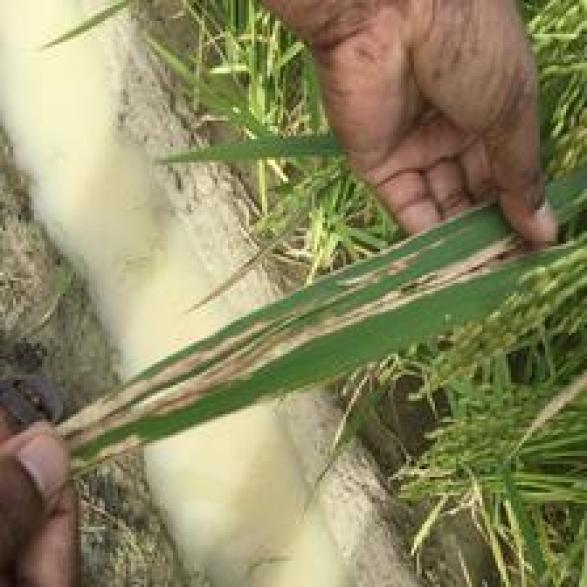Bacteria_Leaf_Blight: (50, 215, 534, 409)
